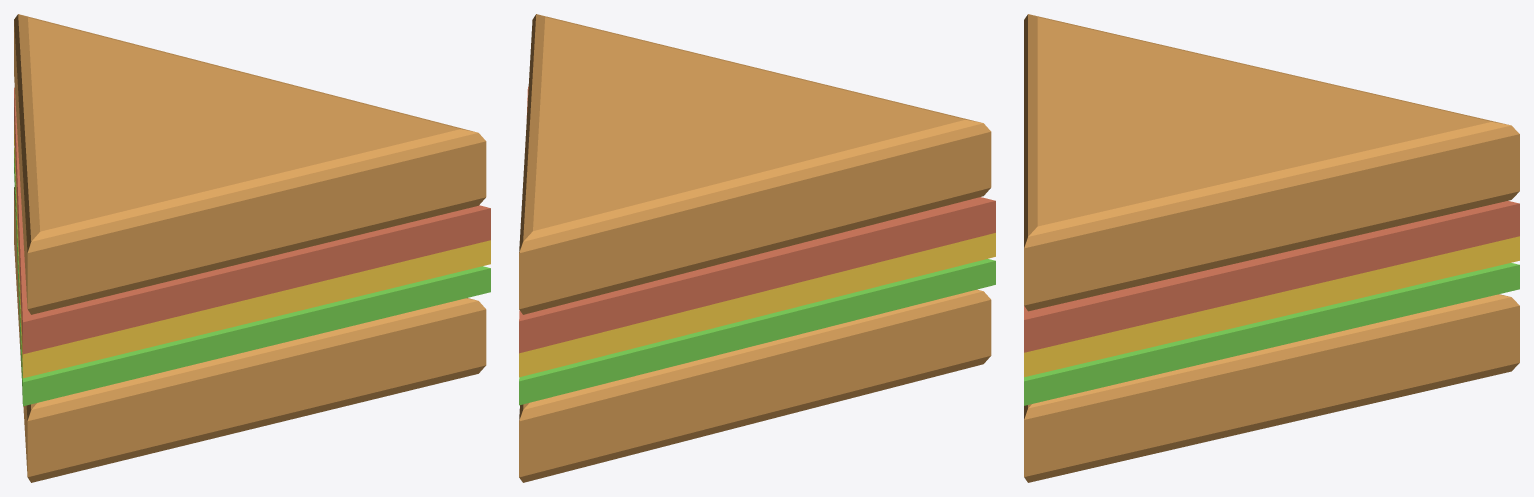
File: Sandwich.fbx
The picture shows the model from 3 angles, left to right: view 1: azimuth 30°, elevation 25°; view 2: azimuth 150°, elevation 25°; view 3: azimuth 270°, elevation 25°; orthographic projection. The views are drawn at different scales.
Parts seen in each view (by area): view 1: Sandwich; view 2: Sandwich; view 3: Sandwich.
Boxes of the visible parts, x1,y1,x2,y2 form: Sandwich: (14, 14, 490, 482); Sandwich: (519, 14, 995, 482); Sandwich: (1024, 14, 1519, 482).
Bounding box in the file's own units: 1.22 × 0.62 × 1.1.
1 material, 1 textured.
